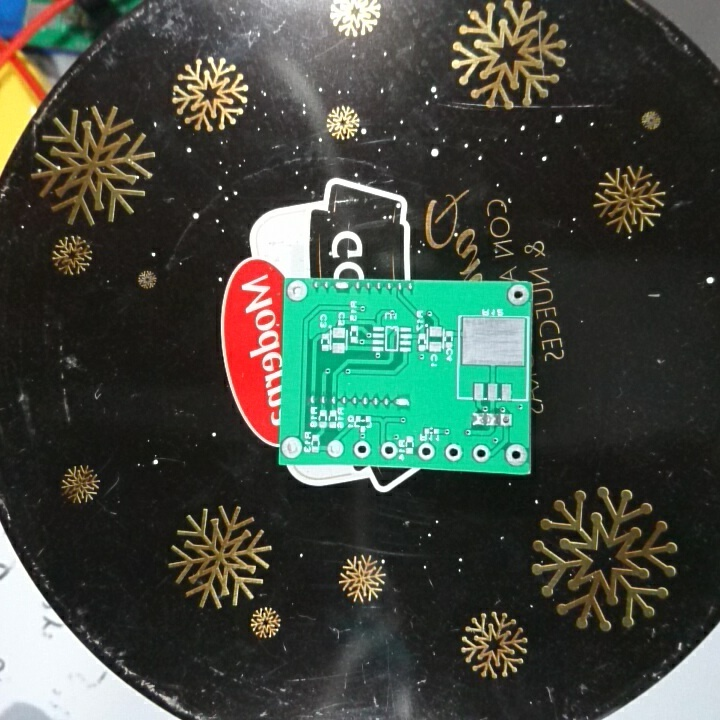F: (283, 277, 310, 305), (279, 435, 304, 460), (503, 443, 527, 469), (506, 283, 530, 309), (351, 437, 373, 461), (469, 443, 493, 465), (378, 439, 398, 464), (324, 438, 346, 460), (415, 441, 436, 464), (443, 442, 464, 464), (498, 410, 513, 429)
P: (391, 393, 413, 412), (333, 279, 351, 295)
